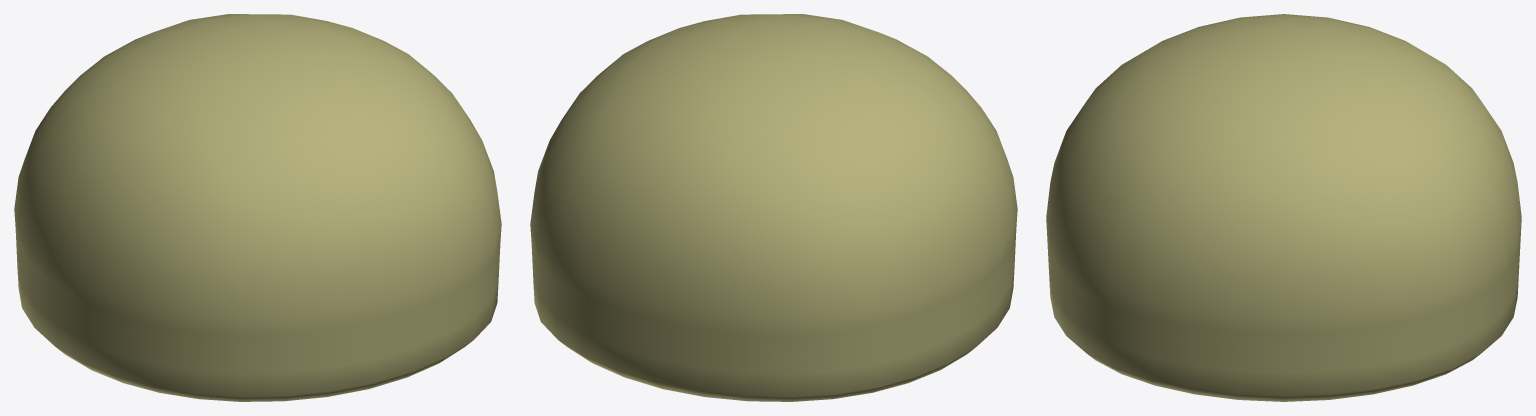
The model's file is Dough Ball.fbx.
3 views of the same model, side by side, from view 1: azimuth 30°, elevation 25°; view 2: azimuth 150°, elevation 25°; view 3: azimuth 270°, elevation 25° (orthographic).
Visible parts, largest first — view 1: Dough_Ball; view 2: Dough_Ball; view 3: Dough_Ball.
Part boxes in pixels (box(x1,y1,x2,y2)): Dough_Ball: box(14, 14, 501, 401); Dough_Ball: box(530, 14, 1017, 401); Dough_Ball: box(1046, 14, 1521, 401).
Bounding box in the file's own units: 9.04 × 5.58 × 9.04.
